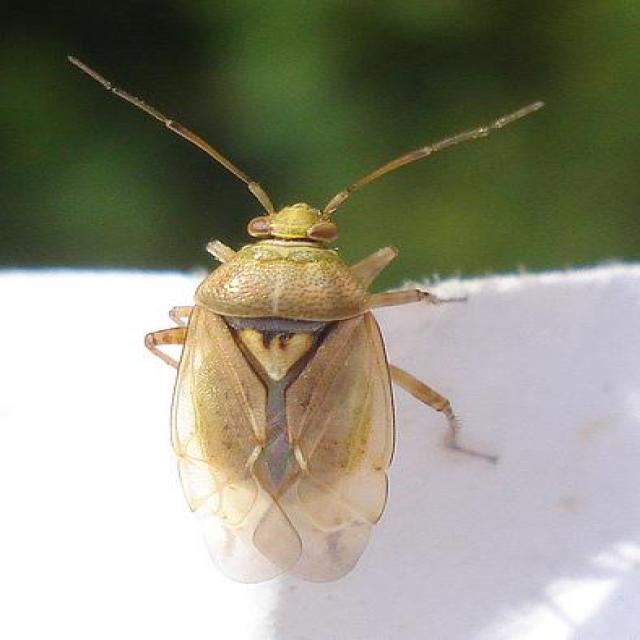Miridae-Adult-: (56, 48, 554, 592)
